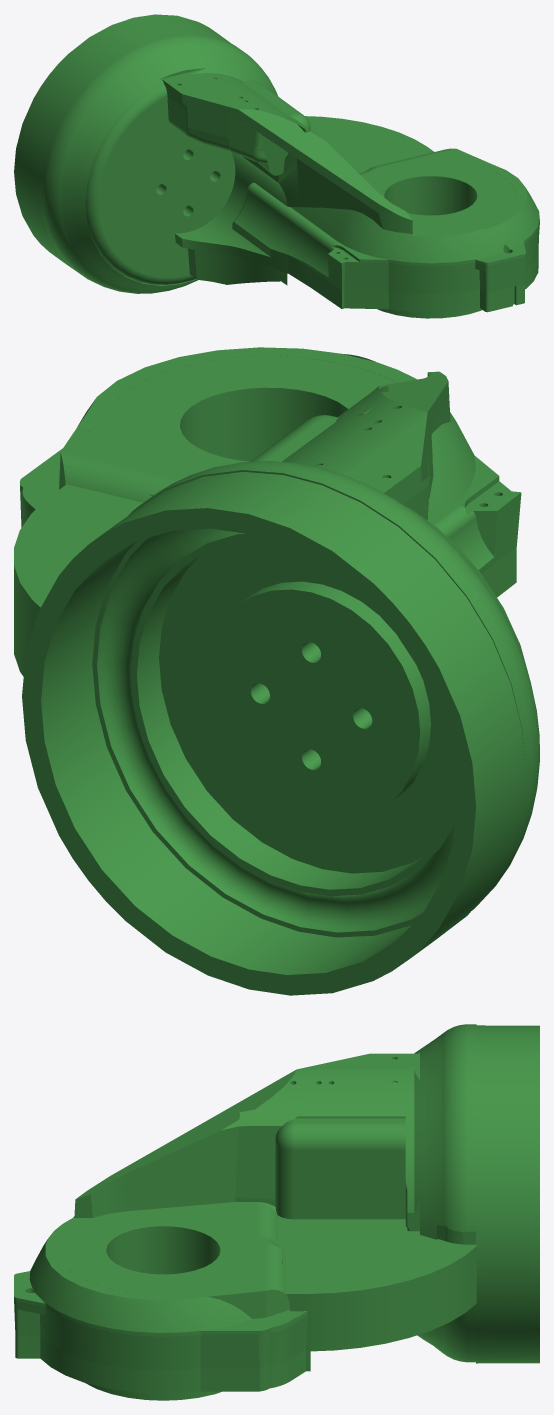
3 renders of one model, top to bottom at view 1: azimuth 30°, elevation 25°; view 2: azimuth 150°, elevation 25°; view 3: azimuth 270°, elevation 25°, orthographic. The views are drawn at different scales.
Visible parts, largest first — view 1: Body1; view 2: Body1; view 3: Body1.
Boxes of the visible parts, x1,y1,x2,y2 form: Body1: (14,14,539,318); Body1: (14,347,539,995); Body1: (14,1024,539,1400).
Size of the model in its own units: 159 by 107 by 166.
